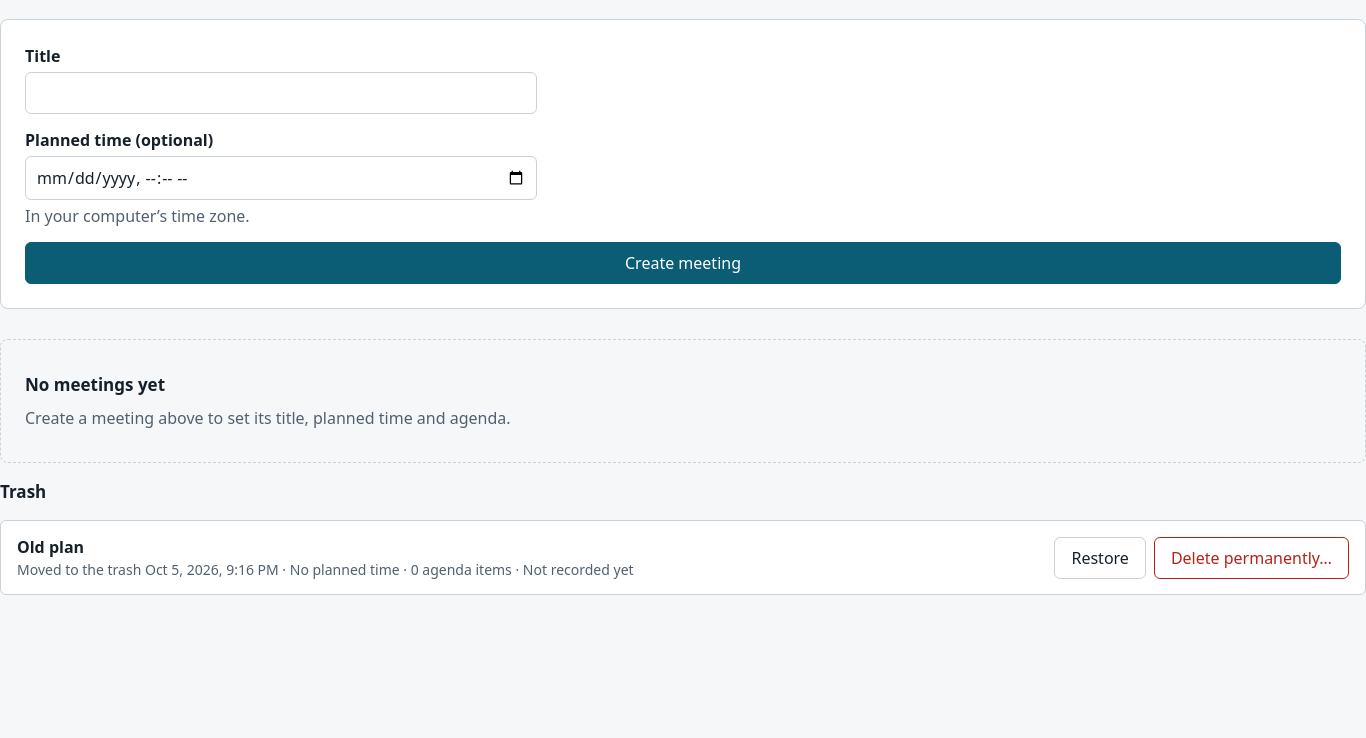
Test: a change that fails leaves the list as it was and says why
Click the button with aria-label "Restore Old plan" at (1100, 558), box [1054, 536, 1146, 578]
(page scrolled)
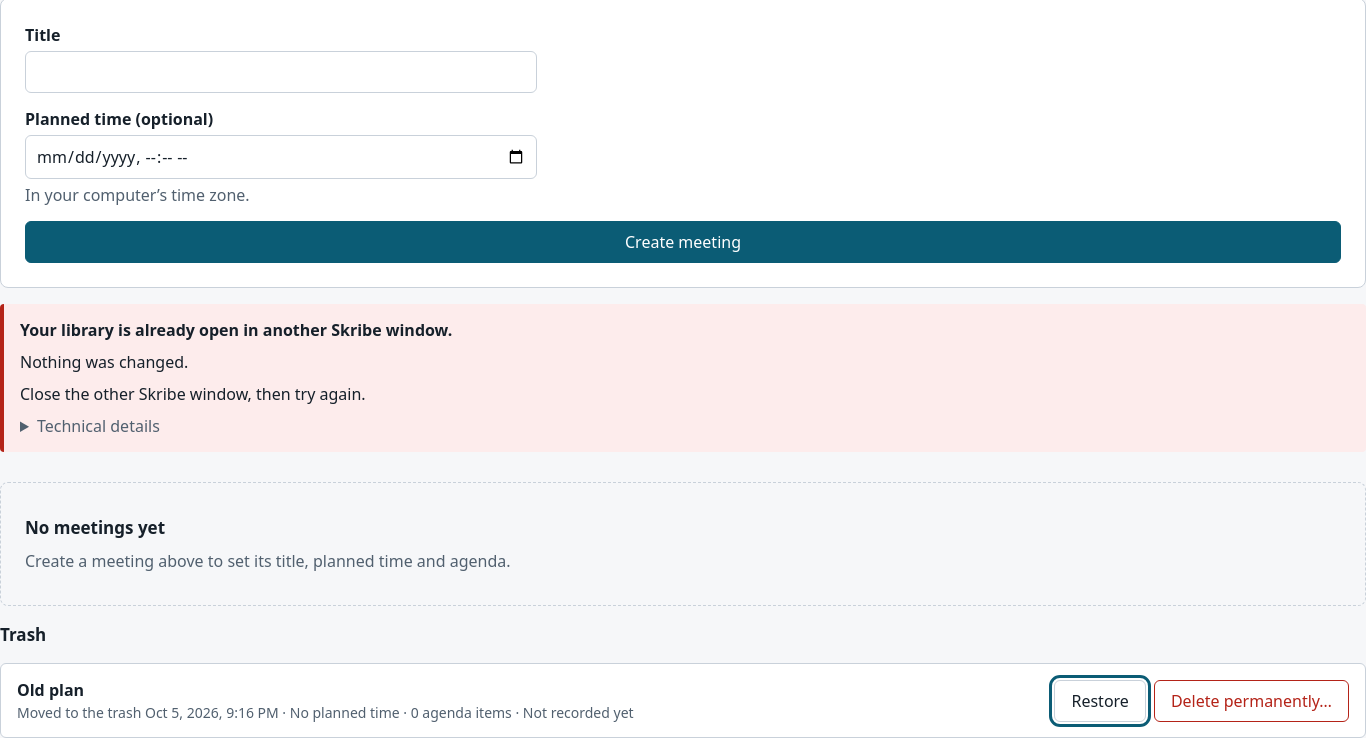
Check: the list named "Meetings in the trash" shows "Old plan", box [17, 679, 84, 701]
Check: the message shows "Your library is already open in another Skribe window.", box [20, 319, 452, 341]
